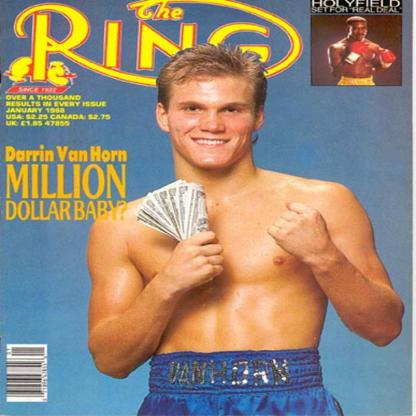face: (168, 77, 257, 170), (350, 22, 368, 40)
